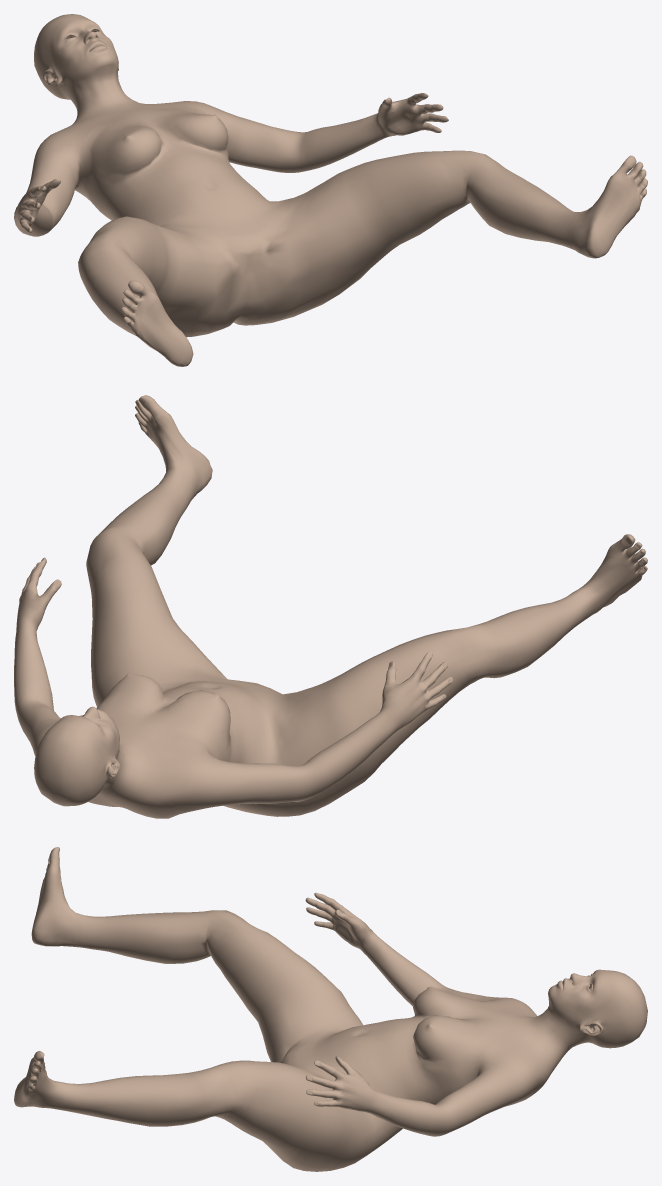
File: paciente.fbx
3 renders of one model, top to bottom at view 1: azimuth 30°, elevation 25°; view 2: azimuth 150°, elevation 25°; view 3: azimuth 270°, elevation 25°, orthographic. The views are drawn at different scales.
Parts seen in each view (by area): view 1: pacienteMesh; view 2: pacienteMesh; view 3: pacienteMesh.
Part boxes in pixels (bbox=[...]): pacienteMesh: bbox=[14, 14, 647, 366]; pacienteMesh: bbox=[14, 395, 647, 818]; pacienteMesh: bbox=[14, 847, 647, 1171].
Bounding box in the file's own units: 1.11 × 0.4655 × 1.3.
